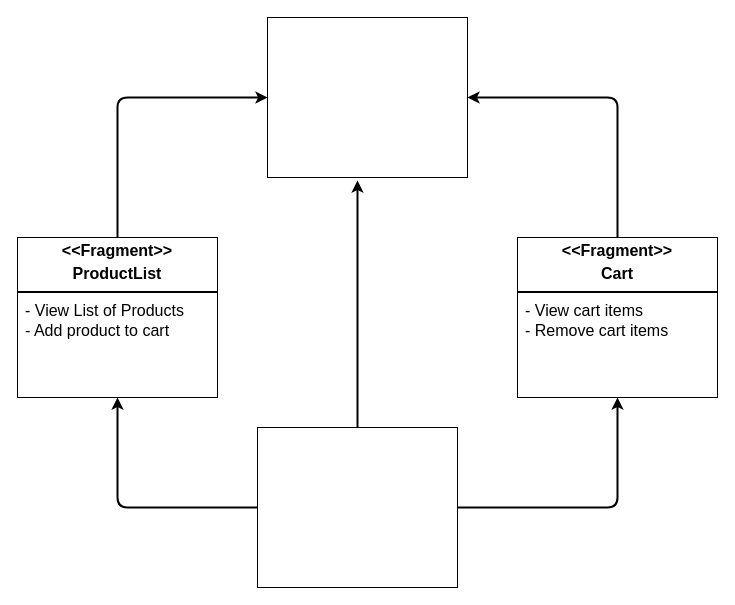
Some shapes in this 735 by 605 pixel diagram are drawn without their labels. Here are the shapes that lost their labels. From the top down, the centre of each, then its label:
At point (367, 97): "<<Activity>> MainActivity - Host fragments - Navigation container".
At point (357, 507): "<<ViewModel>> SharedViewModel - Products - CartItems - LiveData - Business logic".
